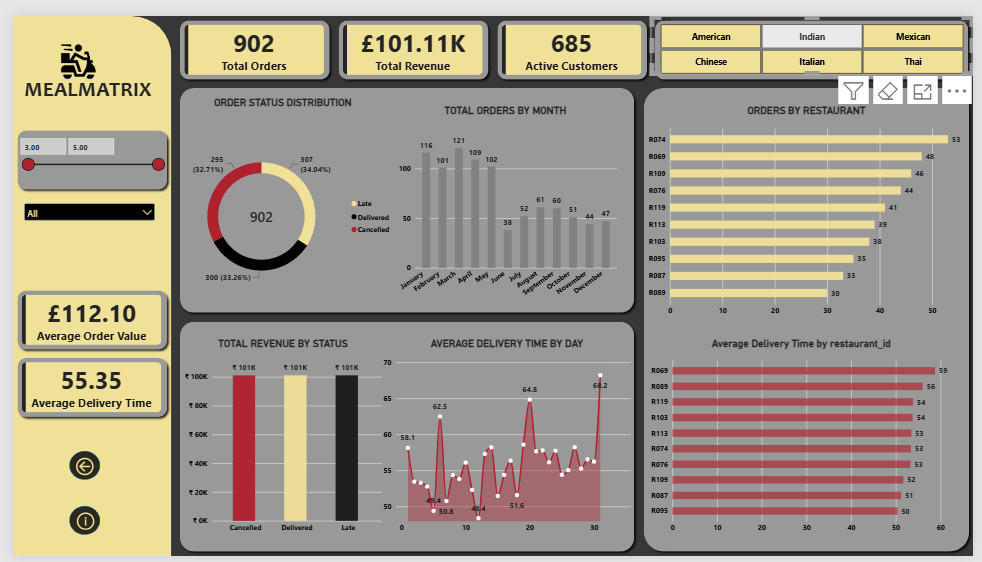

The dashboard page shown, as its layout file describes it:
{"tool":"powerbi","page":{"name":"Page 1","canvas":[1920,1080],"ordinal":0},"visuals":[{"type":"shape","box":[0,0,317,1080.6],"z":0},{"type":"shape","box":[0,220.2,317,135.8],"z":1000},{"type":"shape","box":[325.2,0,317,135.8],"z":2000},{"type":"shape","box":[959.2,0,317,135.8],"z":3000},{"type":"shape","box":[0,675.1,317,135.8],"z":4000},{"type":"shape","box":[0,539.3,317,135.8],"z":5000},{"type":"shape","box":[642.2,0,317,135.8],"z":6000},{"type":"shape","box":[1276.2,0,644.3,135.8],"z":7000},{"type":"shape","box":[325.2,135.8,926.2,467.2],"z":8000},{"type":"shape","box":[325.2,603.1,926.2,477.5],"z":9000},{"type":"shape","box":[1251.5,135.8,669,944.8],"z":10000},{"type":"image","box":[88.5,22.6,86.4,137.9],"z":11000},{"type":"textbox","box":[22.6,119.4,286.1,88.5],"z":12000},{"type":"cardVisual","fields":{"Data":["_orders_medium csv.Total Orders"]},"box":[343.7,18.5,279.9,100.9],"z":13000},{"type":"cardVisual","fields":{"Data":["_orders_medium csv.Average Order Value"]},"box":[18.5,557.8,279.9,100.9],"z":14000},{"type":"cardVisual","fields":{"Data":["_orders_medium csv.Total Revenue"]},"box":[660.7,16.5,279.9,100.9],"z":15000},{"type":"cardVisual","fields":{"Data":["_orders_medium csv.Active Customers"]},"box":[977.7,18.5,279.9,100.9],"z":16000},{"type":"cardVisual","fields":{"Data":["_orders_medium csv.Average Delivery Time"]},"box":[18.5,691.6,279.9,100.9],"z":17000},{"type":"donutChart","title":"ORDER STATUS DISTRIBUTION","fields":{"Category":["_orders_medium csv.status"],"Y":["_orders_medium csv.Total Orders"]},"box":[317,160.5,444.6,442.5],"z":18000},{"type":"clusteredColumnChart","title":"TOTAL ORDERS BY MONTH","fields":{"Category":["_orders_medium csv.order_time.Variation.Date Hierarchy.Month"],"Y":["_orders_medium csv.Total Orders"]},"box":[761.6,177,444.6,397.3],"z":19000},{"type":"barChart","title":"ORDERS BY RESTAURANT","fields":{"Category":["restaurants csv.restaurant_id"],"Y":["_orders_medium csv.Total Orders"]},"box":[1270,177,634,426.1],"z":20000},{"type":"clusteredColumnChart","title":"TOTAL REVENUE BY STATUS","fields":{"Category":["_orders_medium csv.status"],"Y":["_orders_medium csv.Total Revenue"]},"box":[343.7,642.2,395.2,395.2],"z":21000},{"type":"lineChart","title":"AVERAGE DELIVERY TIME BY DAY","fields":{"Category":["_orders_medium csv.order_time.Variation.Date Hierarchy.Day"],"Y":["_orders_medium csv.Average Delivery Time"]},"box":[738.9,642.2,496.1,395.2],"z":22000},{"type":"clusteredBarChart","fields":{"Category":["restaurants csv.restaurant_id"],"Y":["_orders_medium csv.Average Delivery Time"]},"box":[1276.2,642.2,603.1,395.2],"z":23000},{"type":"slicer","fields":{"Values":["restaurants csv.cuisine"]},"box":[1276.2,0,644.3,117.3],"z":24000},{"type":"slicer","fields":{"Values":["restaurants csv.rating"]},"box":[8.2,238.8,300,300],"z":25000},{"type":"slicer","fields":{"Values":["restaurants csv.city"]},"box":[18.5,370.5,271.7,300.5],"z":26000},{"type":"shape","box":[113.2,870.7,61.7,57.6],"z":27000},{"type":"shape","box":[113.2,979.8,61.7,57.6],"z":28000},{"type":"actionButton","box":[94.7,988,100,40],"z":29000},{"type":"actionButton","box":[76.2,870.7,137.9,61.7],"z":30000}]}

Visuals, with their boxes in screenshot pixels (x1, y1, x2, y2), scaled from the page's 1920x1080 canvas onto the 982x562 screenshot:
shape: left=0, top=0, right=162, bottom=561
shape: left=0, top=115, right=162, bottom=185
shape: left=166, top=0, right=328, bottom=71
shape: left=491, top=0, right=653, bottom=71
shape: left=0, top=351, right=162, bottom=422
shape: left=0, top=281, right=162, bottom=351
shape: left=328, top=0, right=491, bottom=71
shape: left=653, top=0, right=981, bottom=71
shape: left=166, top=71, right=640, bottom=314
shape: left=166, top=314, right=640, bottom=561
shape: left=640, top=71, right=981, bottom=561
image: left=45, top=12, right=89, bottom=84
textbox: left=12, top=62, right=158, bottom=108
cardVisual - _orders_medium csv.Total Orders: left=176, top=10, right=319, bottom=62
cardVisual - _orders_medium csv.Average Order Value: left=9, top=290, right=153, bottom=343
cardVisual - _orders_medium csv.Total Revenue: left=338, top=9, right=481, bottom=61
cardVisual - _orders_medium csv.Active Customers: left=500, top=10, right=643, bottom=62
cardVisual - _orders_medium csv.Average Delivery Time: left=9, top=360, right=153, bottom=412
"ORDER STATUS DISTRIBUTION" donutChart: left=162, top=84, right=390, bottom=314
"TOTAL ORDERS BY MONTH" clusteredColumnChart: left=390, top=92, right=617, bottom=299
"ORDERS BY RESTAURANT" barChart: left=650, top=92, right=974, bottom=314
"TOTAL REVENUE BY STATUS" clusteredColumnChart: left=176, top=334, right=378, bottom=540
"AVERAGE DELIVERY TIME BY DAY" lineChart: left=378, top=334, right=632, bottom=540
clusteredBarChart - restaurants csv.restaurant_id x _orders_medium csv.Average Delivery Time: left=653, top=334, right=961, bottom=540
slicer - restaurants csv.cuisine: left=653, top=0, right=981, bottom=61
slicer - restaurants csv.rating: left=4, top=124, right=158, bottom=280
slicer - restaurants csv.city: left=9, top=193, right=148, bottom=349
shape: left=58, top=453, right=89, bottom=483
shape: left=58, top=510, right=89, bottom=540
actionButton: left=48, top=514, right=100, bottom=535
actionButton: left=39, top=453, right=110, bottom=485
